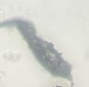microplastic: (1, 16, 71, 79)
